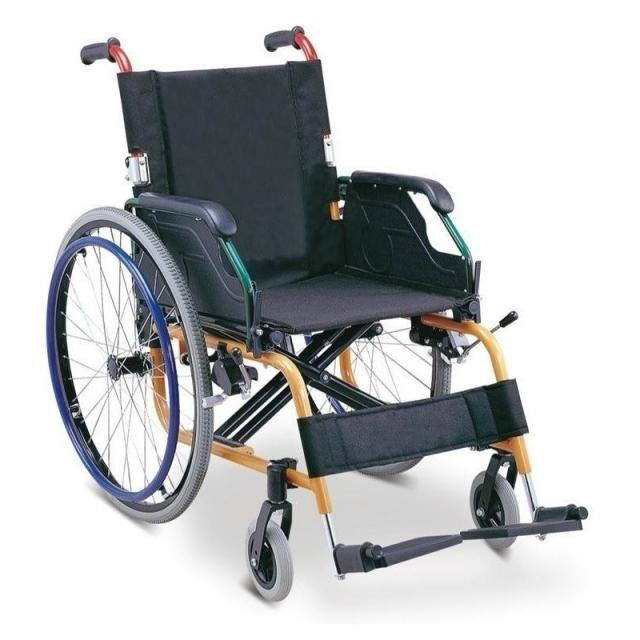wheelchair: (37, 20, 592, 613)
